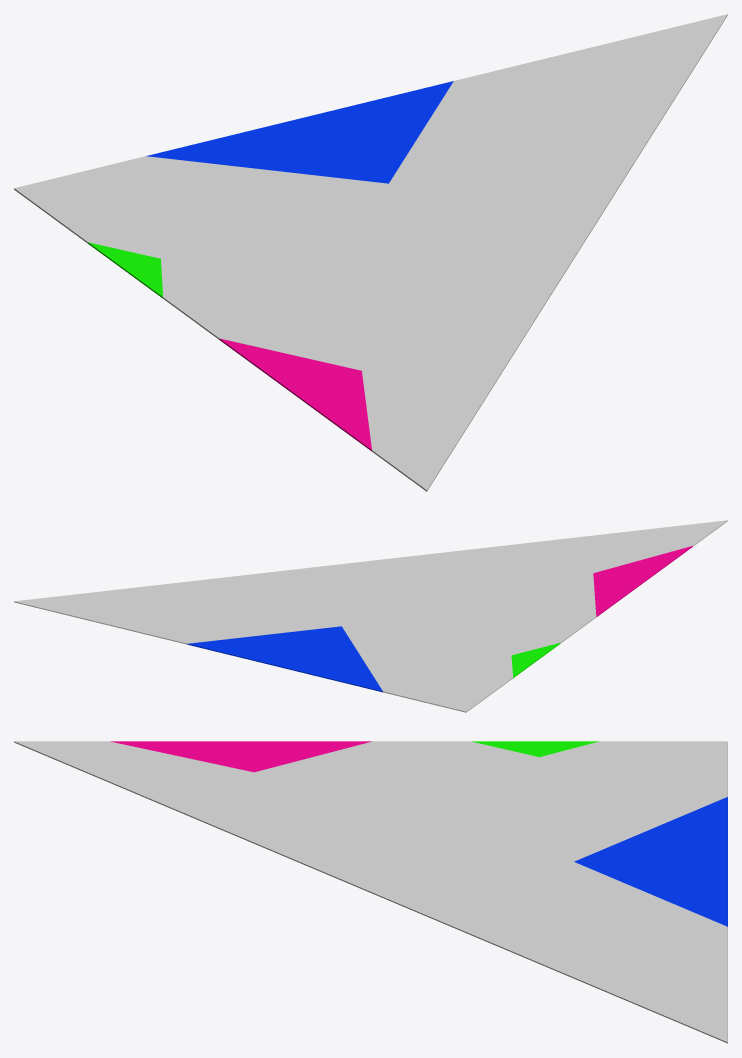
Rendered from anakare2.fbx.
3 views of the same model, one above another, from view 1: azimuth 30°, elevation 25°; view 2: azimuth 150°, elevation 25°; view 3: azimuth 270°, elevation 25° (orthographic). The views are drawn at different scales.
Parts seen in each view (by area): view 1: Cube.052, Cube.058, Cube.059, Cube.060; view 2: Cube.052, Cube.058, Cube.059, Cube.060; view 3: Cube.052, Cube.058, Cube.059, Cube.060.
Part boxes in pixels (box(x1,y1,x2,y2)): Cube.052: box(14, 14, 727, 491); Cube.058: box(146, 81, 453, 183); Cube.059: box(219, 338, 371, 451); Cube.060: box(88, 242, 162, 298); Cube.052: box(14, 520, 727, 712); Cube.058: box(187, 626, 382, 692); Cube.059: box(593, 546, 692, 617); Cube.060: box(511, 642, 560, 678); Cube.052: box(14, 741, 727, 1043); Cube.058: box(574, 797, 727, 926); Cube.059: box(110, 741, 371, 772); Cube.060: box(471, 741, 598, 757).
Size of the model in its own units: 99.81 by 0.2033 by 100.
